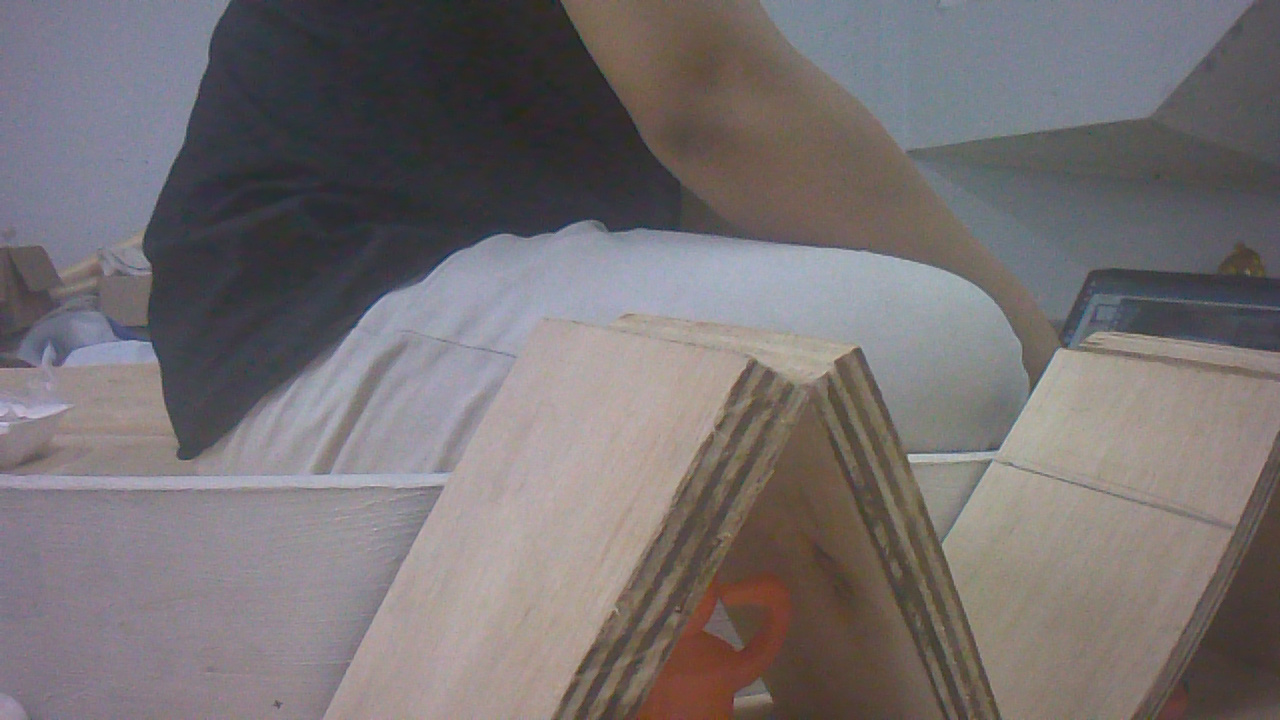real: (610, 549, 794, 720)
